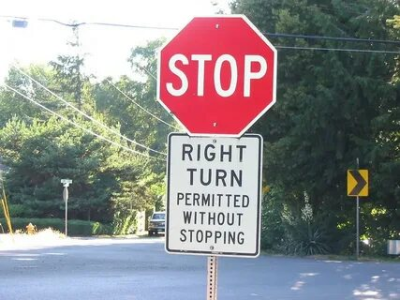stop: (164, 28, 271, 125)
